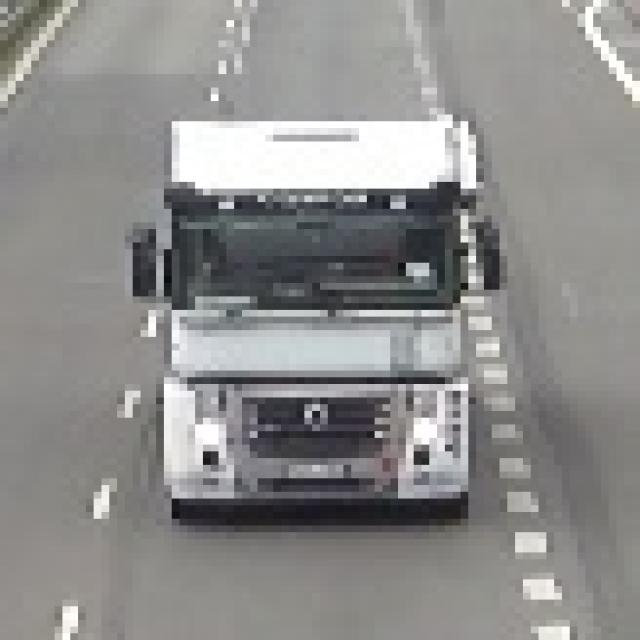TRUCK: (142, 120, 490, 522)
